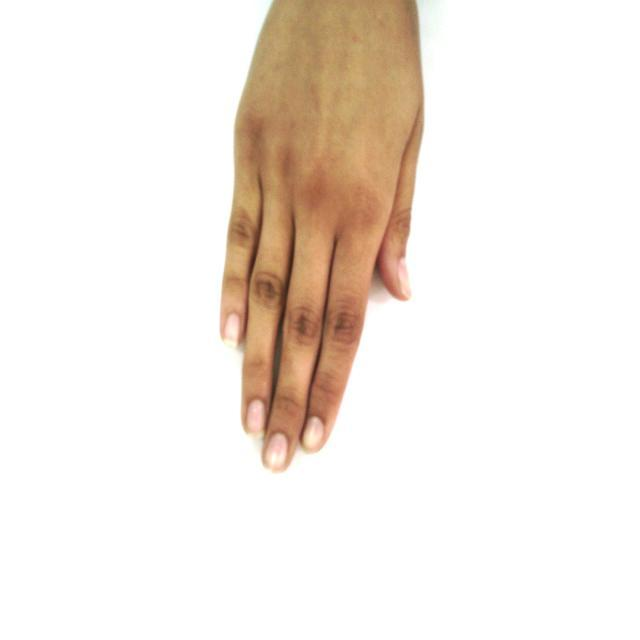Fingernail: (265, 433, 288, 470), (302, 418, 324, 452), (247, 400, 265, 437), (224, 314, 240, 346), (399, 259, 412, 296)
